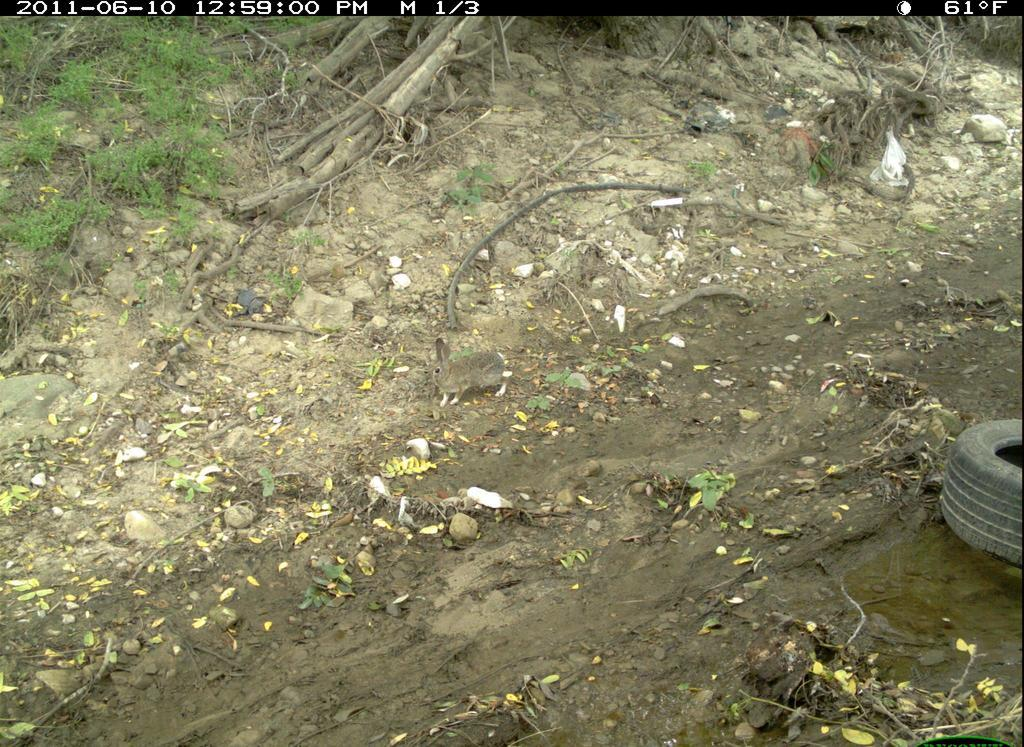rabbit: (424, 337, 524, 406)
